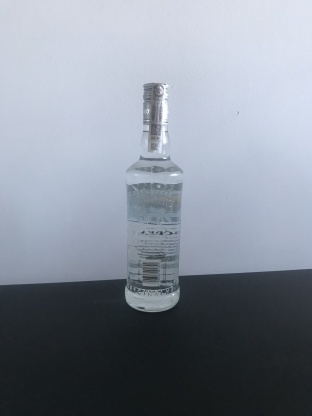nakretka: (140, 78, 172, 127)
